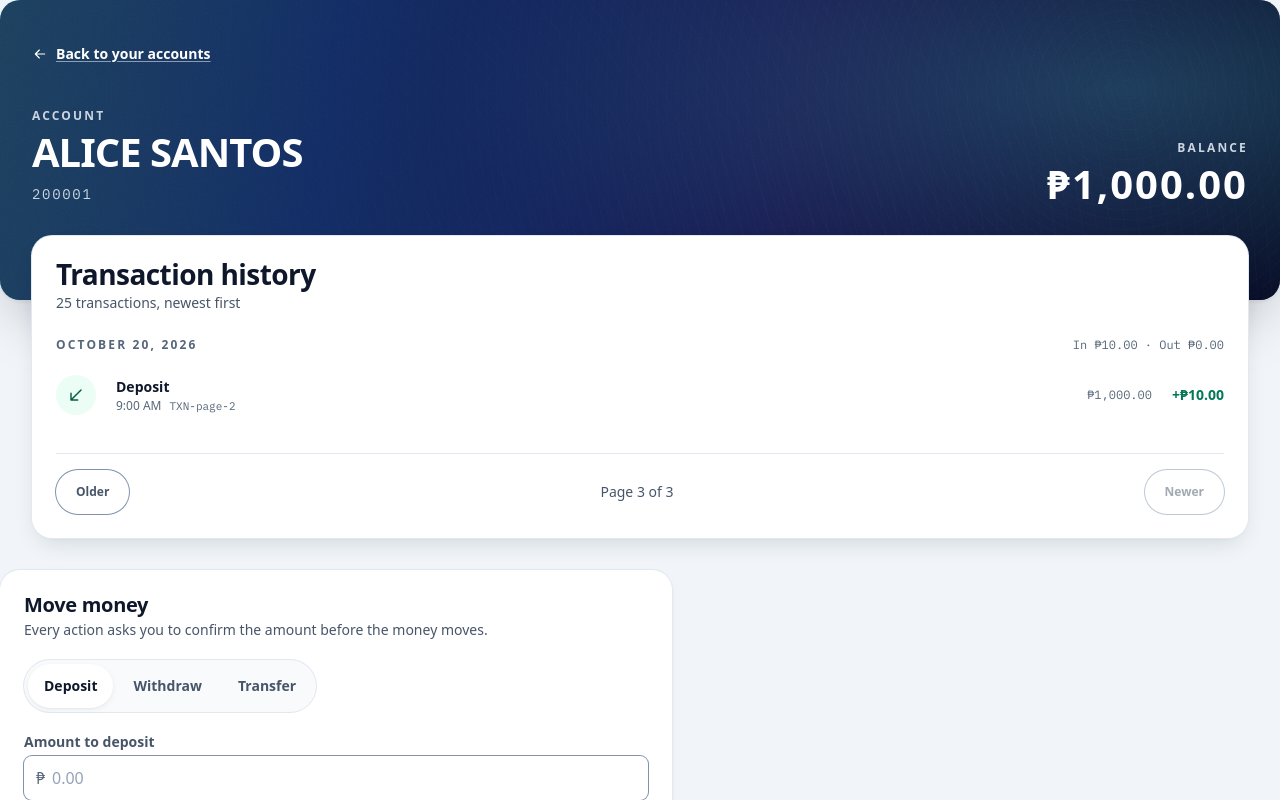
Test case: AccountPage states › opens the most recent page and pages backwards through history
The width and height of the screenshot is (1280, 800).
Expected: the text "Page 3 of 3" is shown, x1=600 y1=482 x2=674 y2=502
Expected: the text "25 transactions, newest first" is shown, x1=56 y1=293 x2=240 y2=312
Click the button "Older" at {"x": 93, "y": 492}, box x1=56 y1=470 x2=129 y2=514
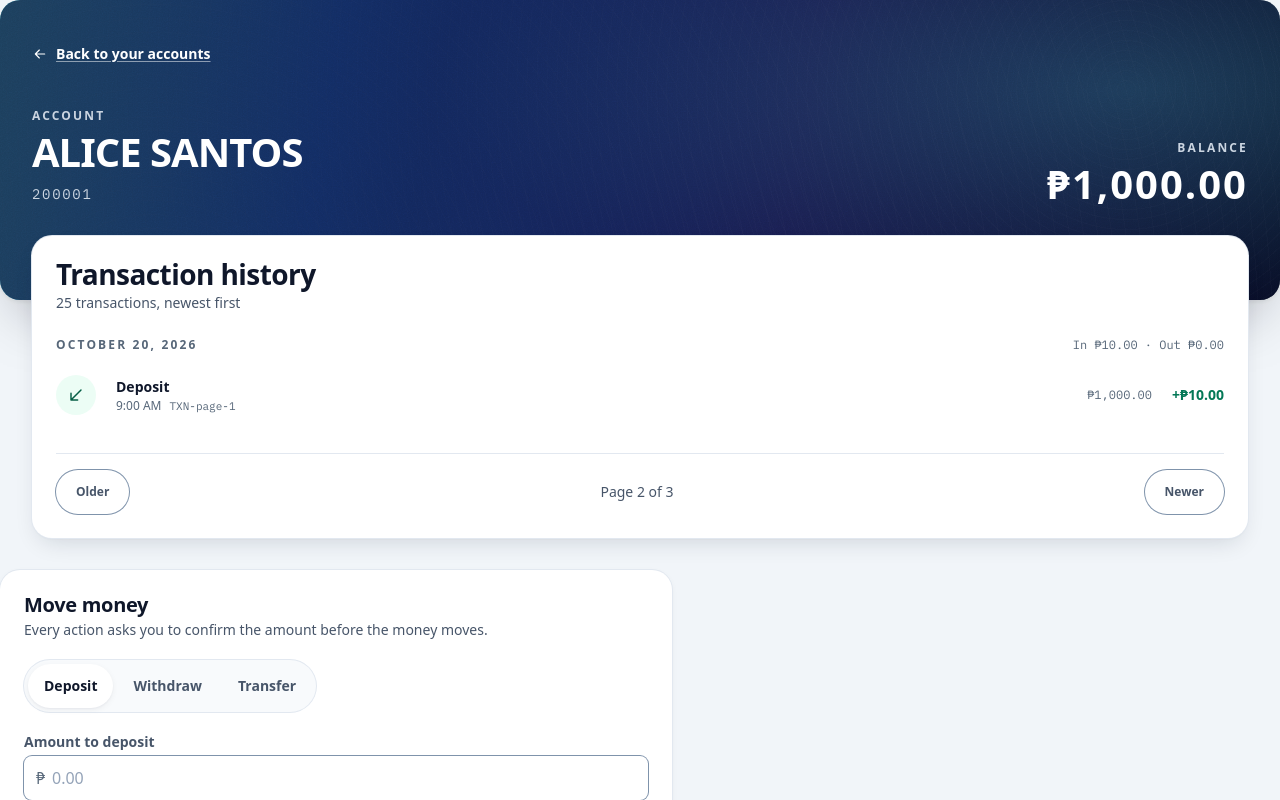
Result: the text "Page 2 of 3" is shown at x1=600 y1=482 x2=674 y2=502
